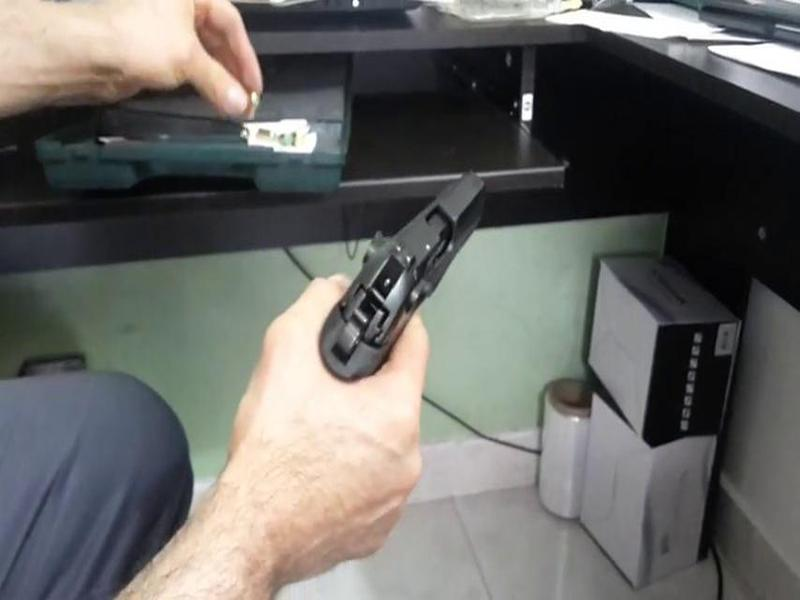Pistola: (312, 154, 487, 400)
